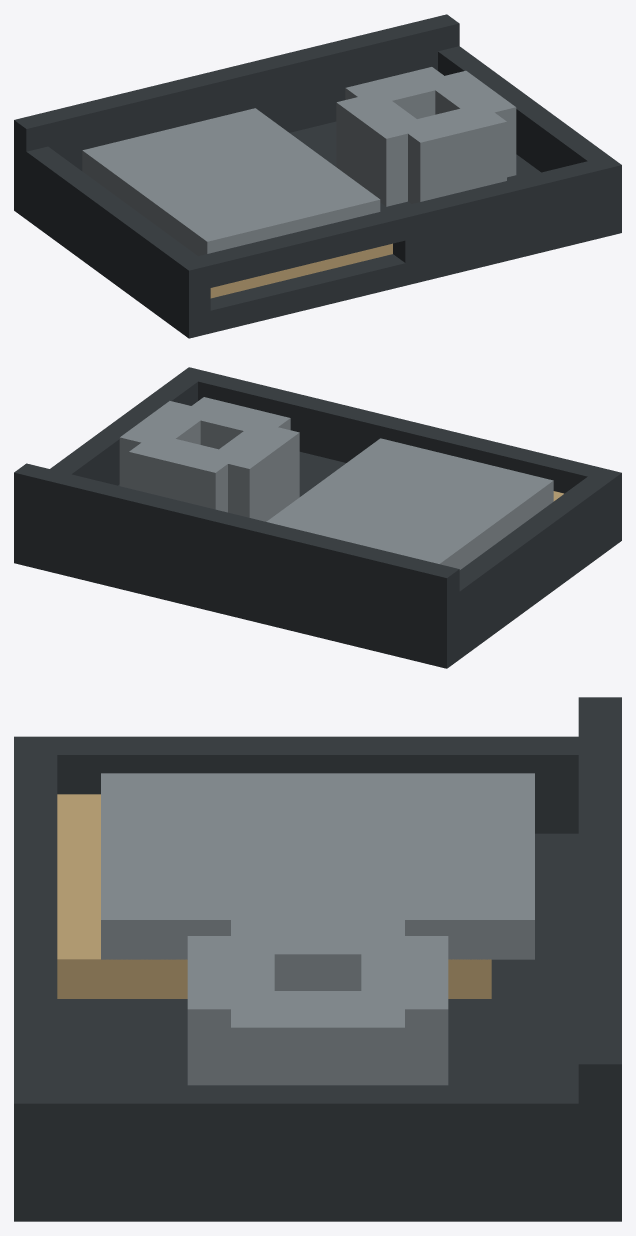
Rendered from repair_kit.glb.
3 renders of one model, top to bottom at view 1: azimuth 30°, elevation 25°; view 2: azimuth 150°, elevation 25°; view 3: azimuth 270°, elevation 25°, orthographic. The views are drawn at different scales.
Parts seen in each view (by area): view 1: equipment:repairKit; view 2: equipment:repairKit; view 3: equipment:repairKit.
Boxes of the visible parts, x1,y1,x2,y2 form: equipment:repairKit: (14,14,621,338); equipment:repairKit: (14,367,621,668); equipment:repairKit: (14,697,621,1221).
Size of the model in its own units: 0.2 by 0.04 by 0.14.
